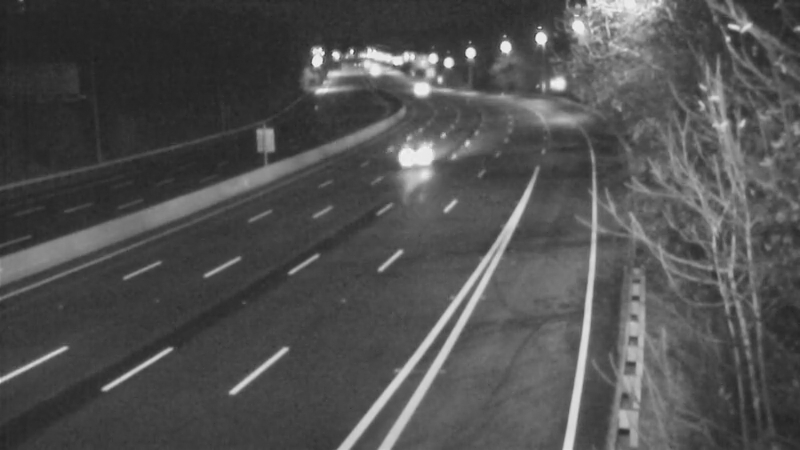vehicle: (375, 116, 455, 196), (389, 60, 439, 110)
